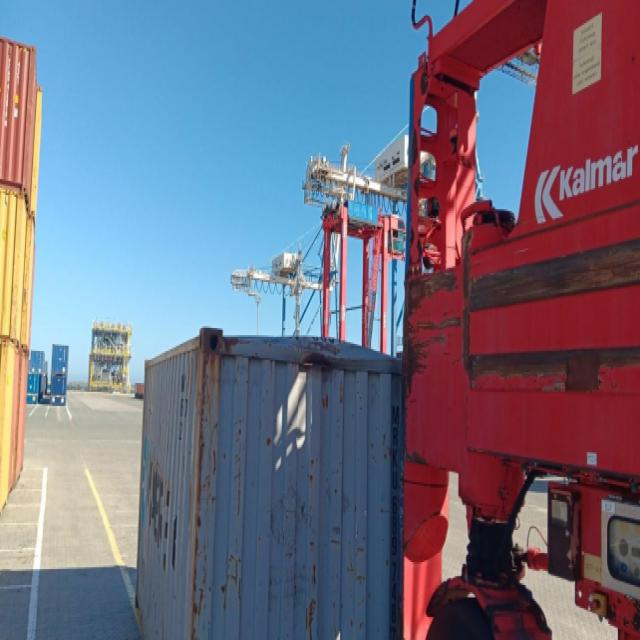dent: (227, 330, 400, 397)
